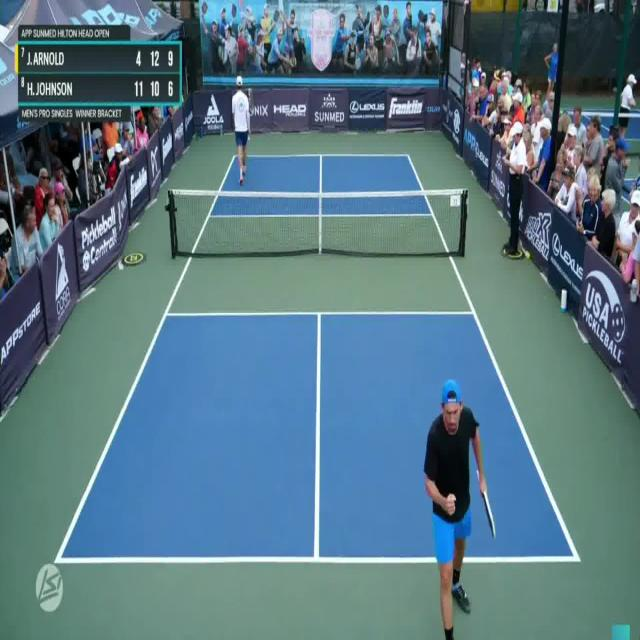Court: (54, 151, 577, 560)
